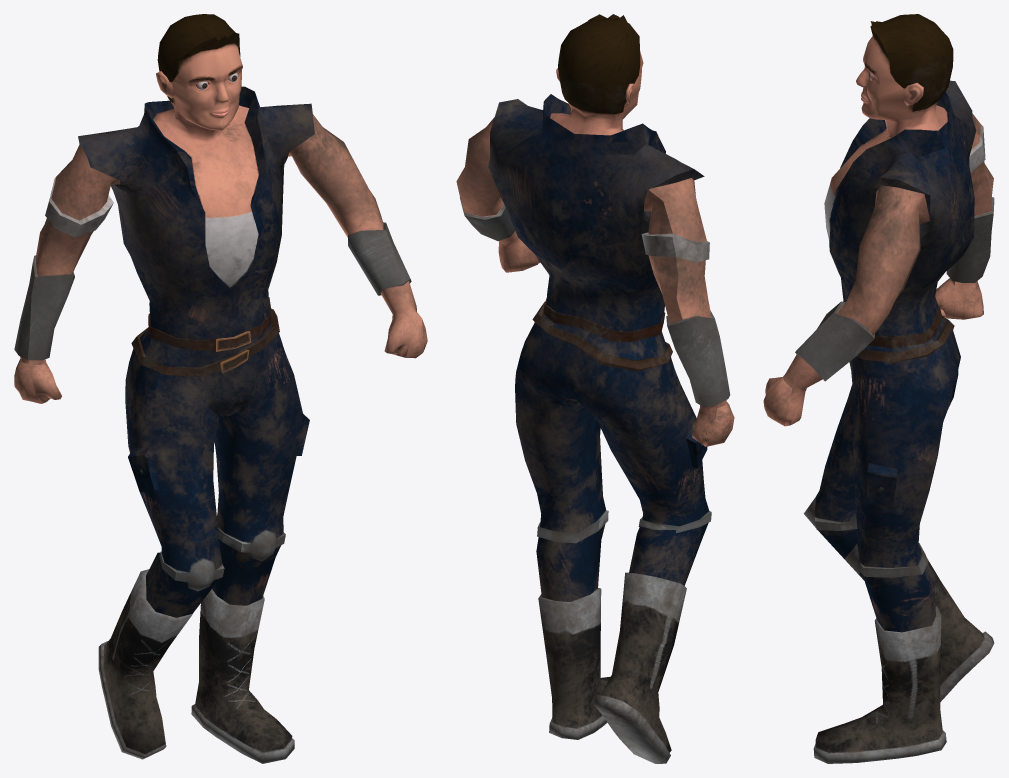
The model's file is Anim_andar_jugador.0037.obj.
The picture shows the model from 3 angles, left to right: view 1: azimuth 30°, elevation 25°; view 2: azimuth 150°, elevation 25°; view 3: azimuth 270°, elevation 25°; orthographic projection.
Visible parts, largest first — view 1: Anim_andar_jugador; view 2: Anim_andar_jugador; view 3: Anim_andar_jugador.
Part boxes in pixels (x1,y1,x2,y2): Anim_andar_jugador: [14, 14, 427, 763]; Anim_andar_jugador: [456, 14, 734, 763]; Anim_andar_jugador: [763, 14, 994, 763].
Bounding box in the file's own units: 4.53 × 9.81 × 2.8.
2 materials, 2 textured.
